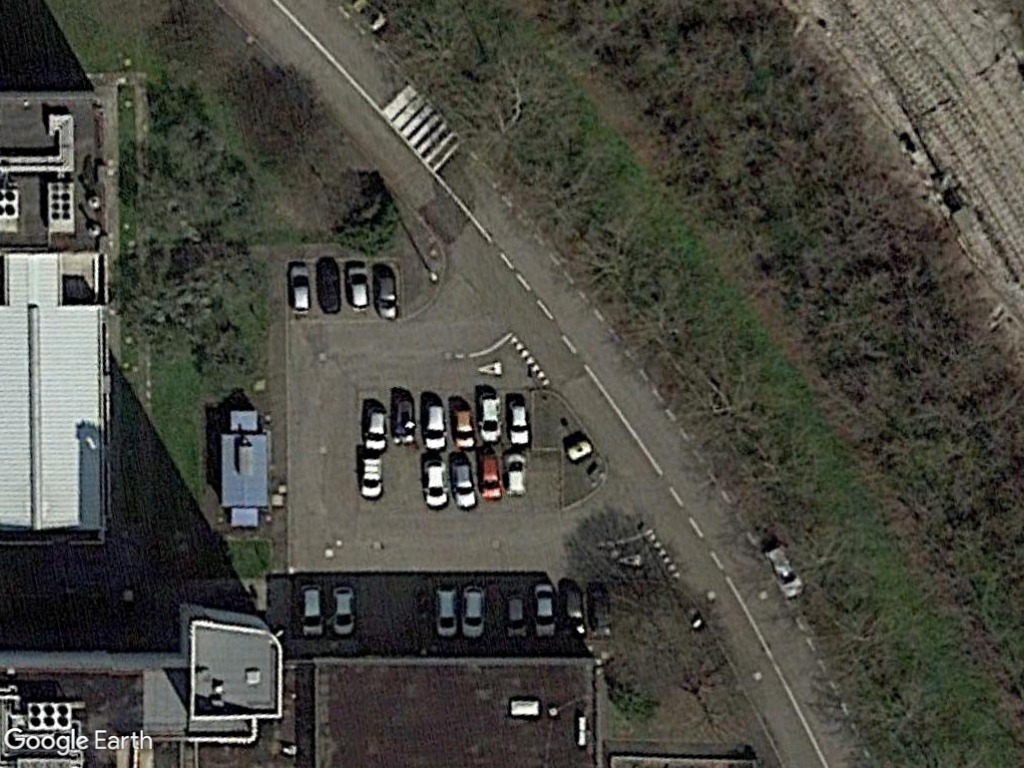car: (431, 580, 462, 644), (458, 579, 488, 645), (297, 579, 327, 643), (419, 394, 450, 455), (285, 258, 316, 318), (328, 583, 359, 643), (473, 389, 505, 447), (530, 578, 558, 644), (502, 394, 533, 450), (419, 456, 450, 512), (371, 265, 400, 324), (501, 590, 532, 644), (446, 400, 478, 452), (477, 448, 505, 507), (361, 398, 391, 453), (452, 457, 479, 516), (356, 450, 385, 504), (501, 450, 532, 498), (344, 260, 370, 317)
other: (313, 255, 343, 318), (559, 585, 586, 642)
